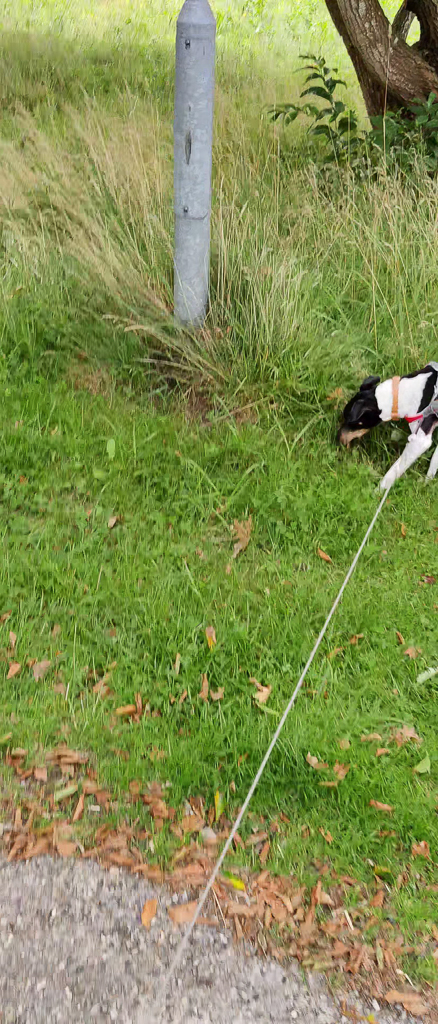Dog: (312, 341, 438, 504)
